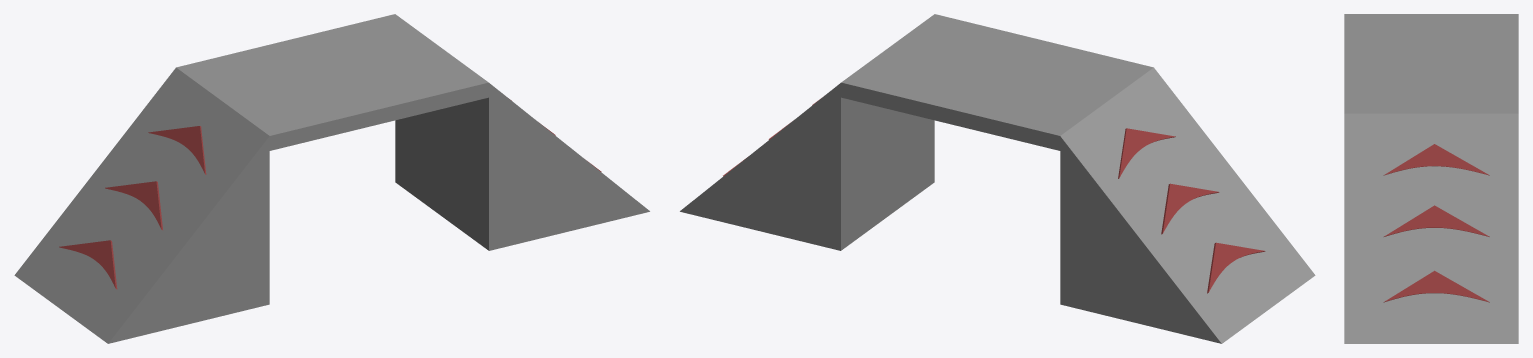
File: qiao06.fbx
3 renders of one model, left to right at view 1: azimuth 30°, elevation 25°; view 2: azimuth 150°, elevation 25°; view 3: azimuth 270°, elevation 25°, orthographic. The views are drawn at different scales.
Visible parts, largest first — view 1: 对象007; view 2: 对象007; view 3: 对象007.
Part boxes in pixels (bbox=[...]): 对象007: bbox=[14, 14, 649, 343]; 对象007: bbox=[680, 14, 1315, 343]; 对象007: bbox=[1344, 14, 1518, 343].
Bounding box in the file's own units: 1107 × 329 × 331.
